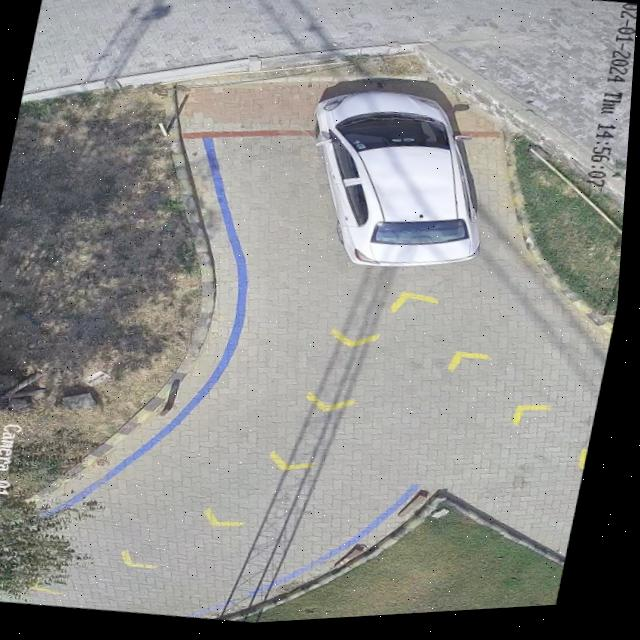car: (315, 93, 485, 272)
